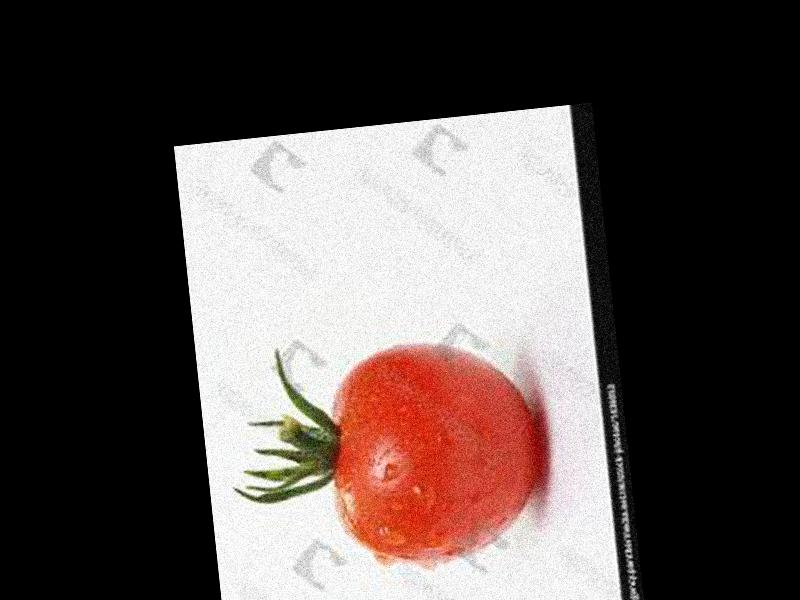Tomato: (321, 331, 550, 567)
